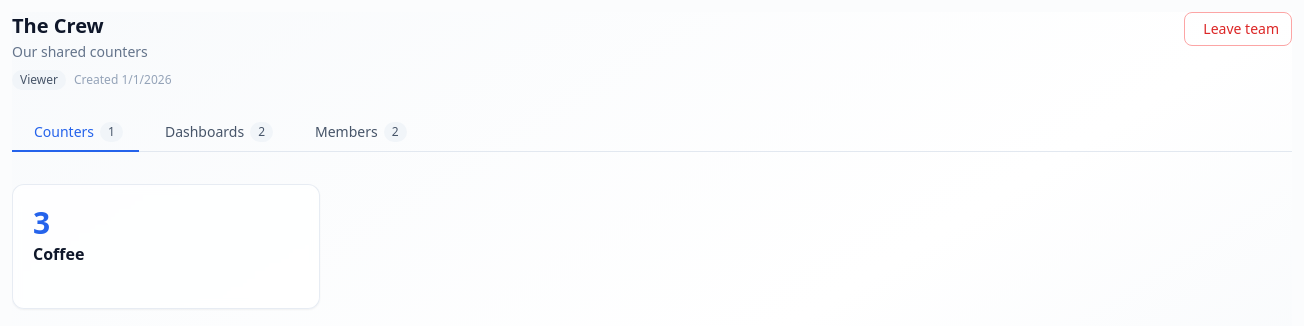
Test: Team page › switches to the dashboards tab
Click the tab "Dashboards 2": (216, 133) x1=143 y1=114 x2=289 y2=152
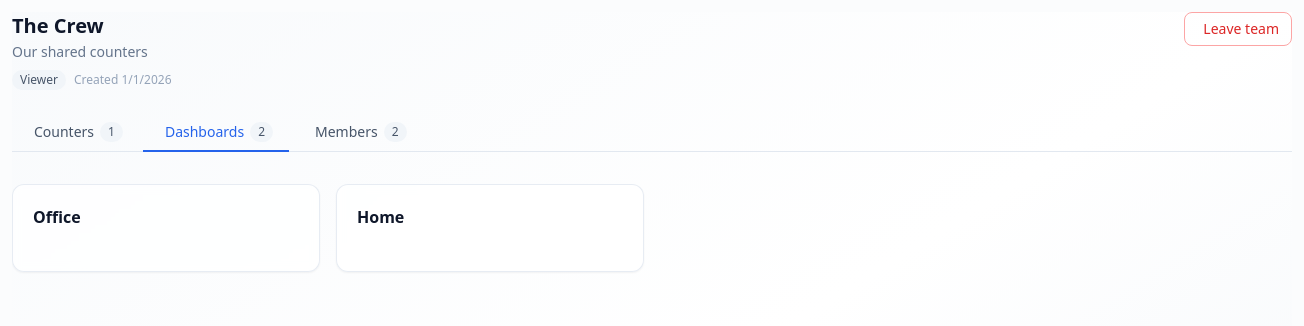
Result: the text "Office" is shown at x1=33 y1=206 x2=81 y2=228
Result: the text "Home" is shown at x1=357 y1=206 x2=404 y2=228
